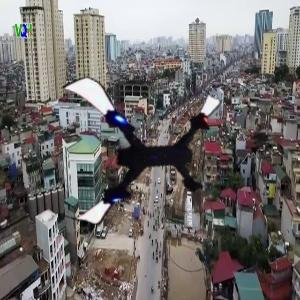drone: (52, 75, 219, 242)
